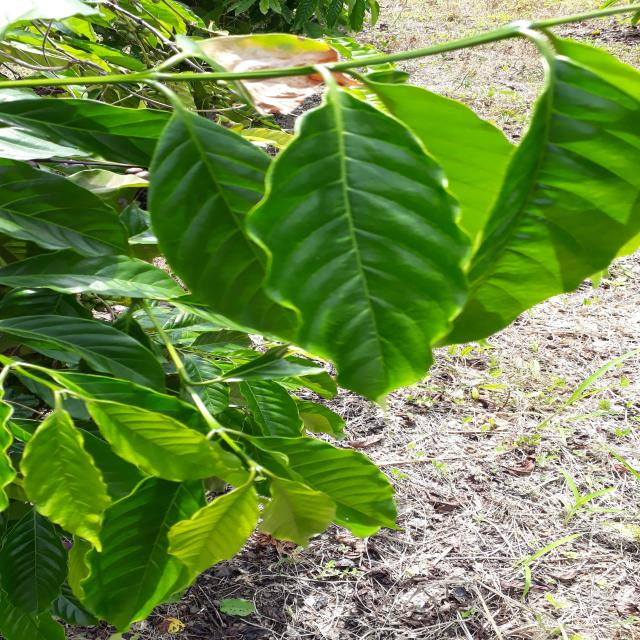Sanas: (243, 96, 474, 402)
